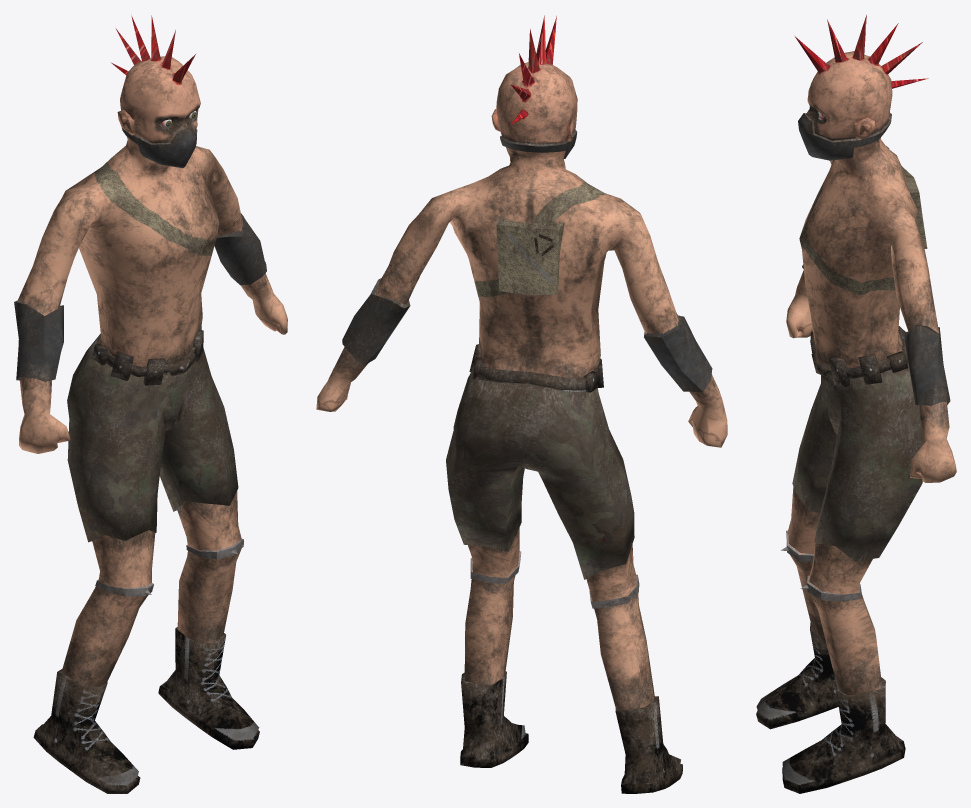
Rendered from Anim_arma_c_npc2.0038.obj.
3 renders of one model, left to right at view 1: azimuth 30°, elevation 25°; view 2: azimuth 150°, elevation 25°; view 3: azimuth 270°, elevation 25°, orthographic. The views are drawn at different scales.
Visible parts, largest first — view 1: polySurface1; view 2: polySurface1; view 3: polySurface1.
Part boxes in pixels (x1,y1,x2,y2): polySurface1: (14,14,287,793); polySurface1: (316,15,727,793); polySurface1: (756,15,956,793).
Bounding box in the file's own units: 4.79 × 10.2 × 2.49.
